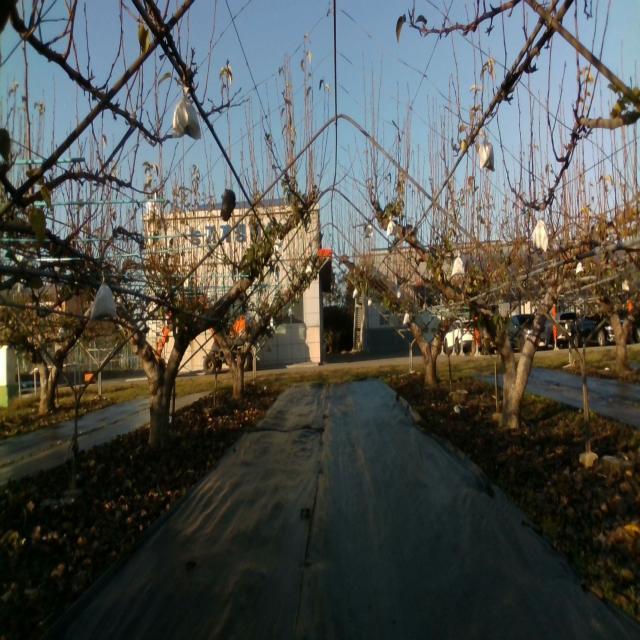pearbags: (172, 85, 202, 141), (90, 274, 118, 322), (530, 220, 548, 258), (479, 129, 494, 170), (450, 252, 466, 280)
